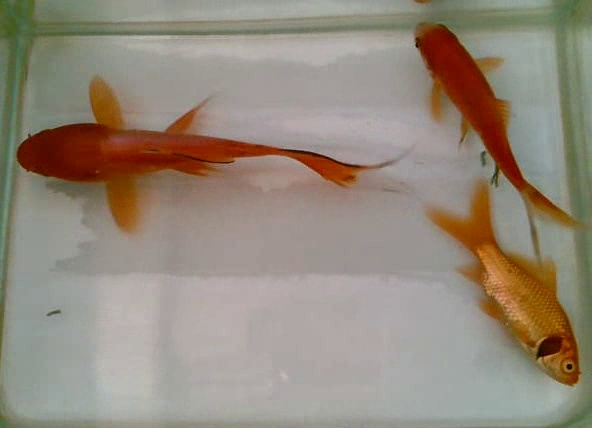alive_fish: (12, 66, 422, 241), (401, 14, 590, 279)
dead_fish: (414, 174, 585, 393)
